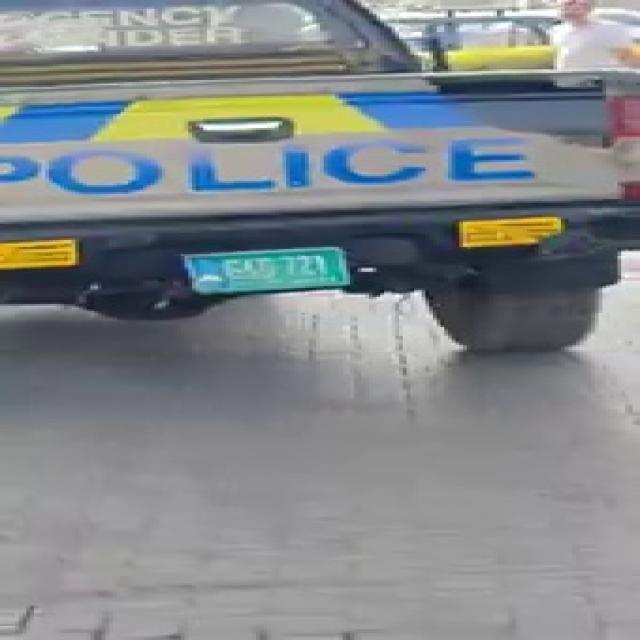police: (7, 3, 640, 366)
